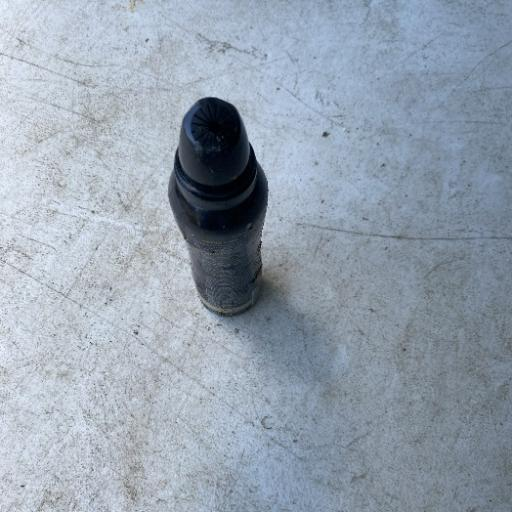Metal: (165, 94, 270, 318)
